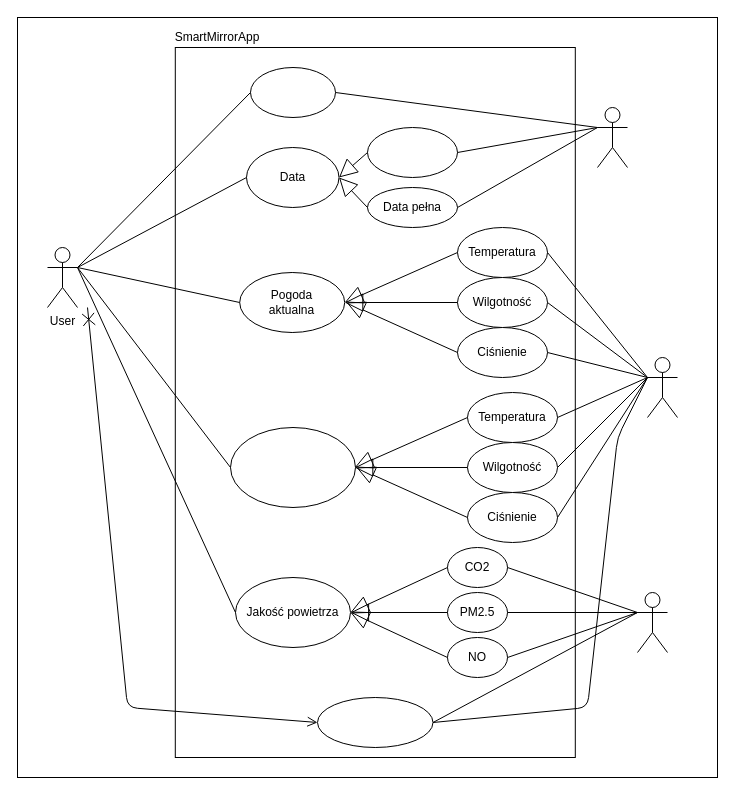
This 735x795 diagram has some shape labels left out. The centre of each missing label's shape, as x and y in pixels:
AirQuality: the point at 652,622
Dzień tygodnia: the point at 412,152
Godzina: the point at 293,92
OpenWeather: the point at 662,387
Pogoda na następny dzień: the point at 293,467
System: the point at 612,137
Wybór lokalizacji: the point at 374,722
